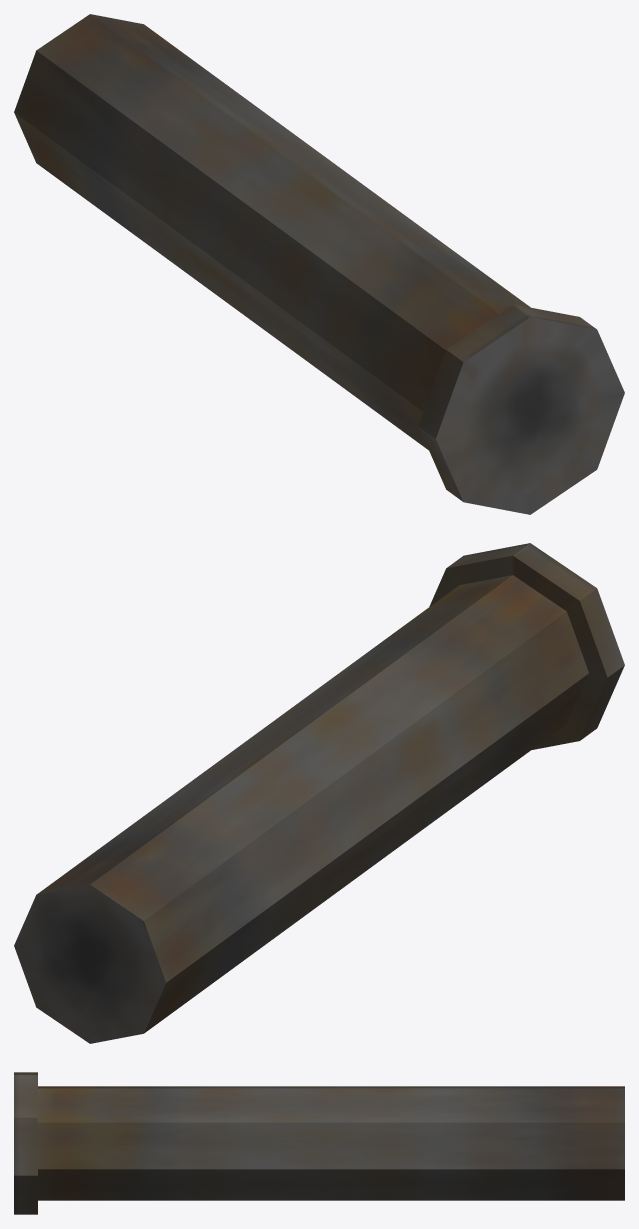
Rendered from pipe_single_grime.fbx.
3 views of the same model, one above another, from view 1: azimuth 30°, elevation 25°; view 2: azimuth 150°, elevation 25°; view 3: azimuth 270°, elevation 25° (orthographic). The views are drawn at different scales.
Visible parts, largest first — view 1: pipe_single_grime; view 2: pipe_single_grime; view 3: pipe_single_grime.
Boxes of the visible parts, <box> form: pipe_single_grime: <box>14,14,624,514</box>; pipe_single_grime: <box>14,543,624,1043</box>; pipe_single_grime: <box>14,1072,624,1214</box>.
Bounding box in the file's own units: 0.124 × 0.124 × 0.5.
1 material, 1 textured.
